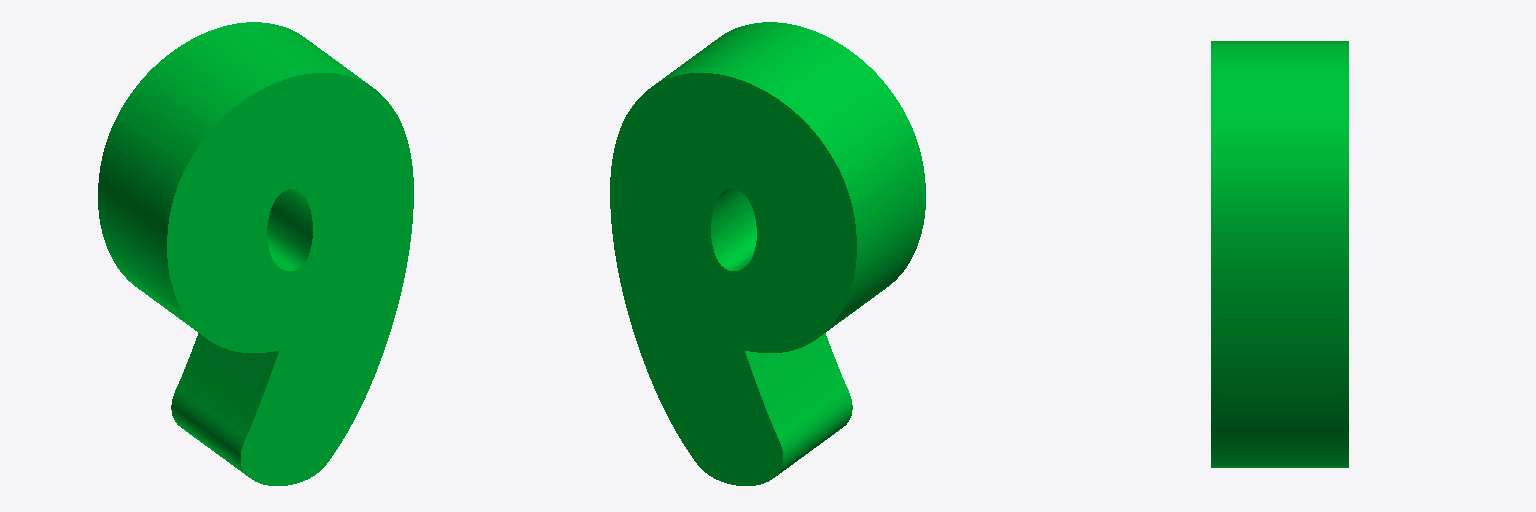
Rendered from Number9.obj.
The picture shows the model from 3 angles: view 1: azimuth 30°, elevation 25°; view 2: azimuth 150°, elevation 25°; view 3: azimuth 270°, elevation 25°; orthographic projection.
Parts seen in each view (by area): view 1: Text; view 2: Text; view 3: Text.
Part boxes in pixels (bbox=[...]): Text: bbox=[98, 22, 413, 485]; Text: bbox=[610, 22, 925, 485]; Text: bbox=[1211, 41, 1348, 467].
Bounding box in the file's own units: 0.3715 × 0.5856 × 0.18.